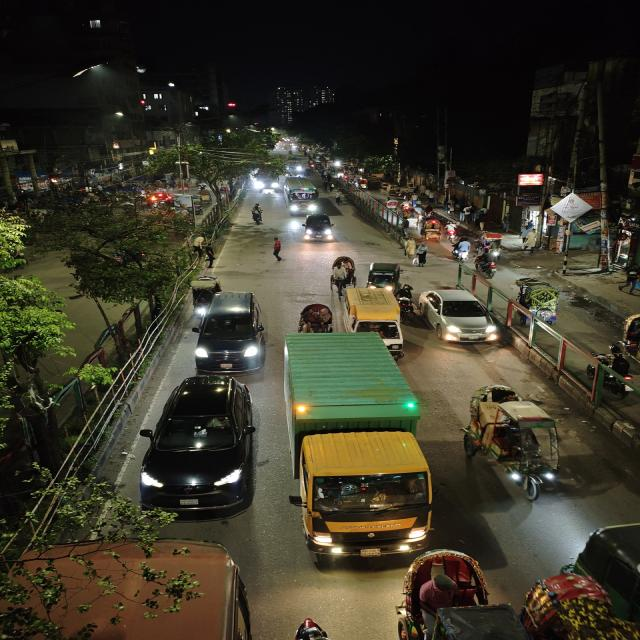bus: (282, 176, 321, 216)
car: (138, 372, 258, 516), (192, 289, 268, 372), (418, 284, 498, 346), (300, 212, 339, 244)
cng: (366, 261, 406, 294)
human_hauler: (343, 285, 405, 333)
motorcycle: (588, 348, 640, 399), (472, 250, 498, 280), (451, 237, 471, 263)
pedestrian: (264, 234, 286, 264), (398, 233, 416, 260), (414, 242, 429, 267), (249, 203, 266, 225), (203, 245, 217, 269)
rickshaw: (391, 545, 550, 640), (462, 381, 568, 501), (513, 275, 569, 326), (185, 276, 222, 323), (293, 300, 335, 336), (326, 253, 358, 295), (423, 224, 442, 243)
truck: (278, 334, 440, 556)
